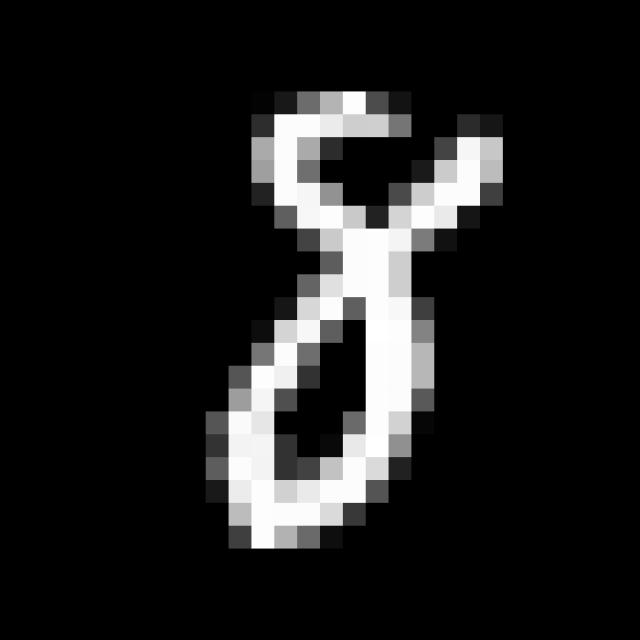eight -8-: (227, 96, 506, 539)
